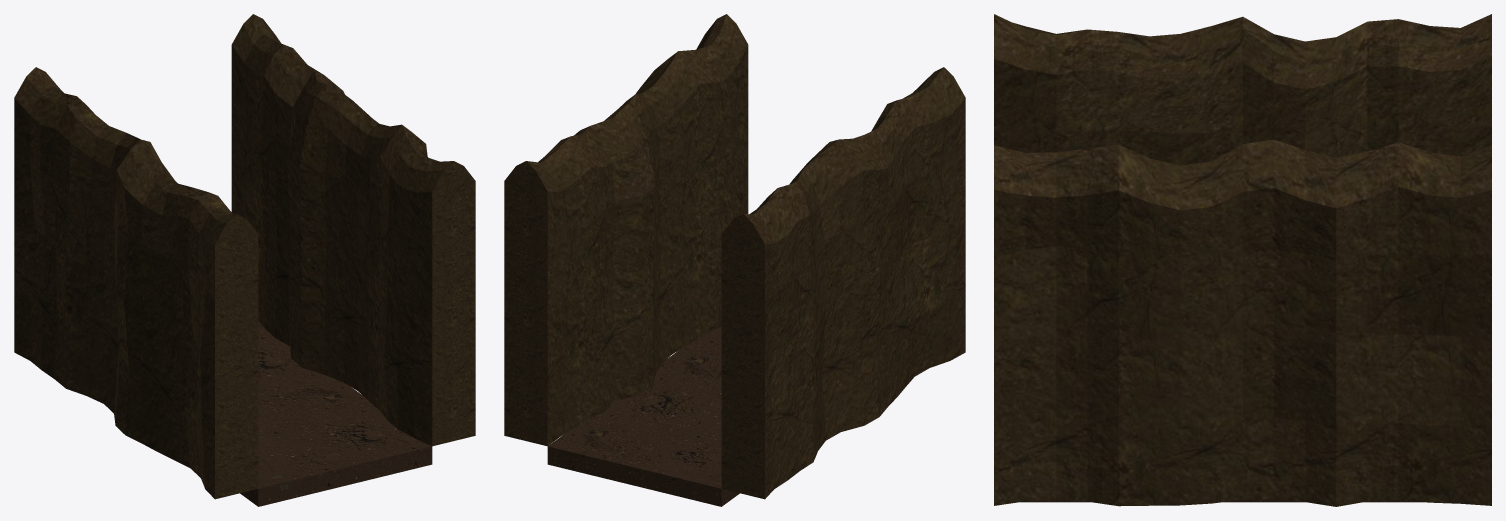
The model's file is cave_corridor_01_dirt.glb.
3 views of the same model, side by side, from view 1: azimuth 30°, elevation 25°; view 2: azimuth 150°, elevation 25°; view 3: azimuth 270°, elevation 25° (orthographic). The views are drawn at different scales.
Parts seen in each view (by area): view 1: cave_corridor_01_dirt; view 2: cave_corridor_01_dirt; view 3: cave_corridor_01_dirt.
Part boxes in pixels (left/top/right/bottom): cave_corridor_01_dirt: left=14, top=14, right=475, bottom=506; cave_corridor_01_dirt: left=504, top=14, right=965, bottom=506; cave_corridor_01_dirt: left=994, top=14, right=1491, bottom=506.
Size of the model in its own units: 3.09 by 3.28 by 4.
2 materials, 2 textured.
